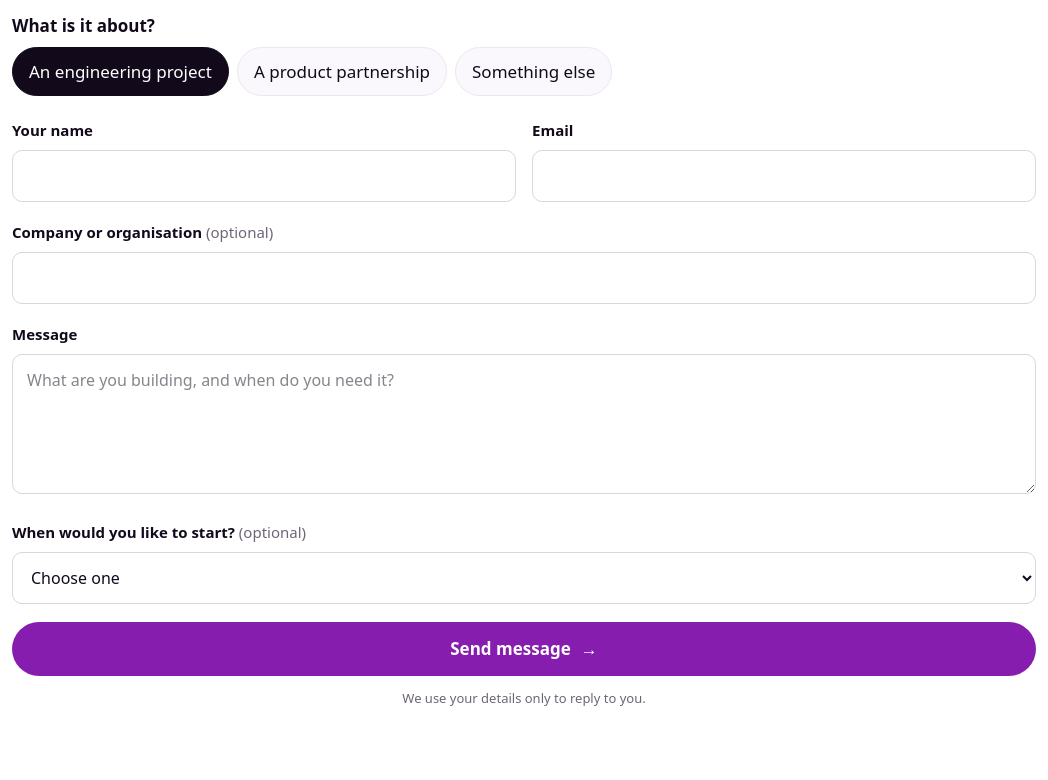
Test: EnquiryForm › a failed request shows the error with the email address
Step 1. Type "Amina" into the field labelled "Your name" → (264, 176), box x1=12 y1=150 x2=516 y2=202
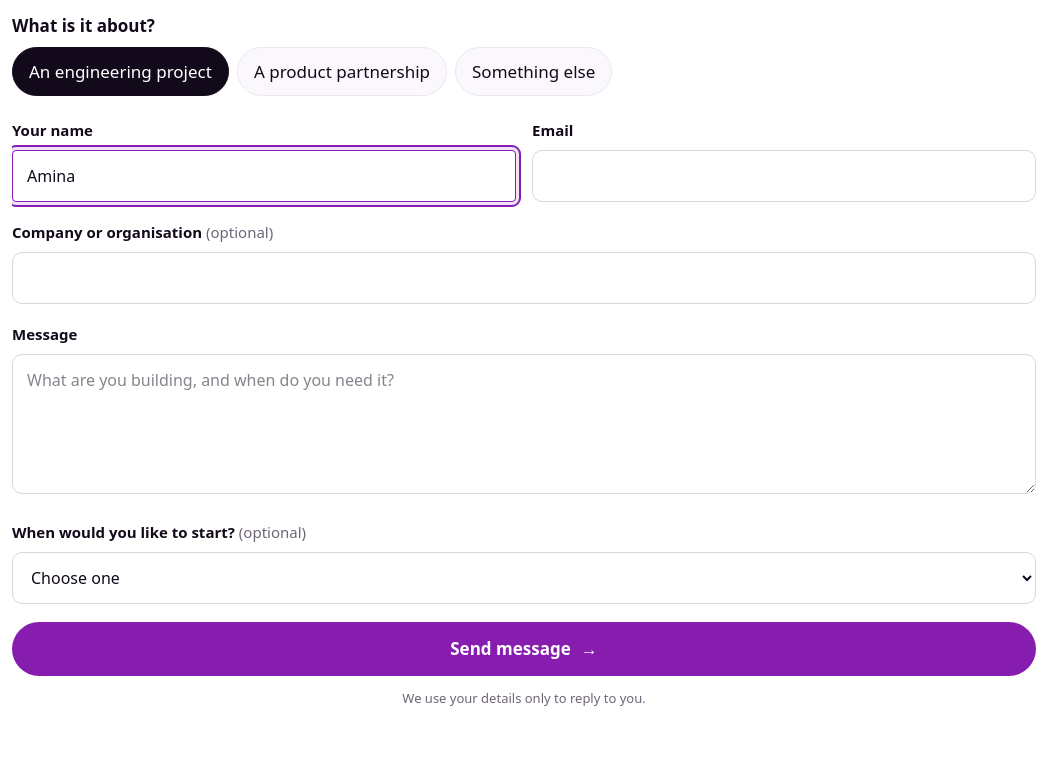
Step 2. Type "amina@example.com" into the field labelled "Email" → (784, 176), box x1=532 y1=150 x2=1036 y2=202
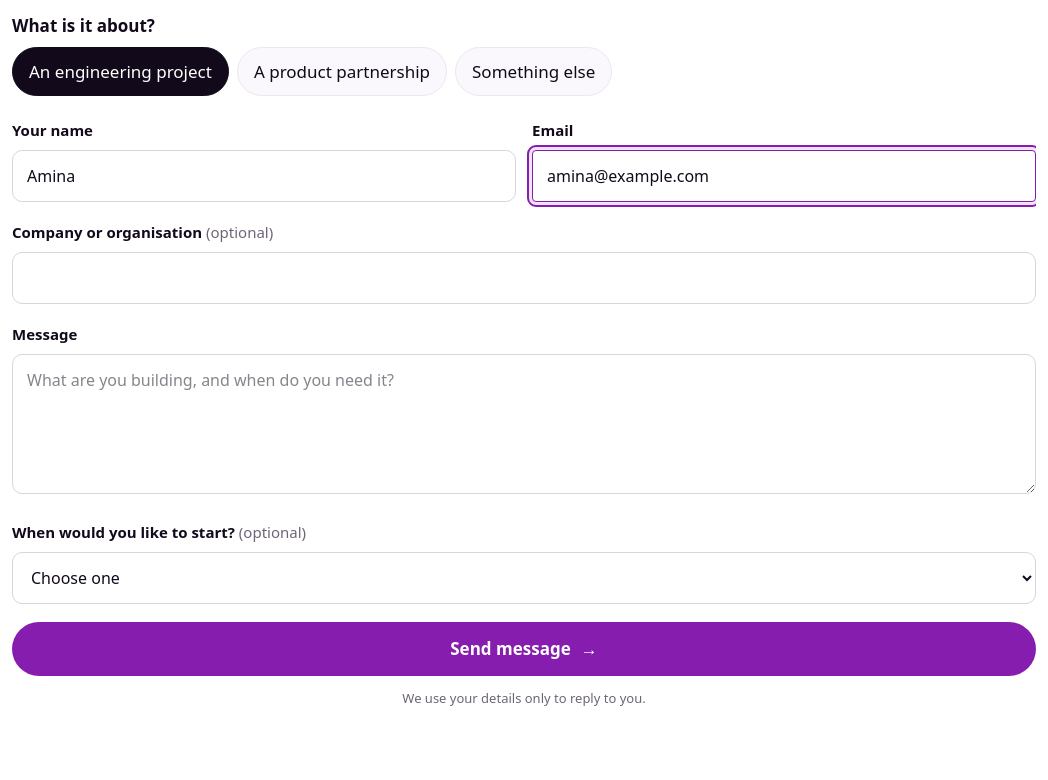
Step 3. Type "We need an API built for our app." into the text box labelled "Message" → (524, 424), box x1=12 y1=354 x2=1036 y2=494
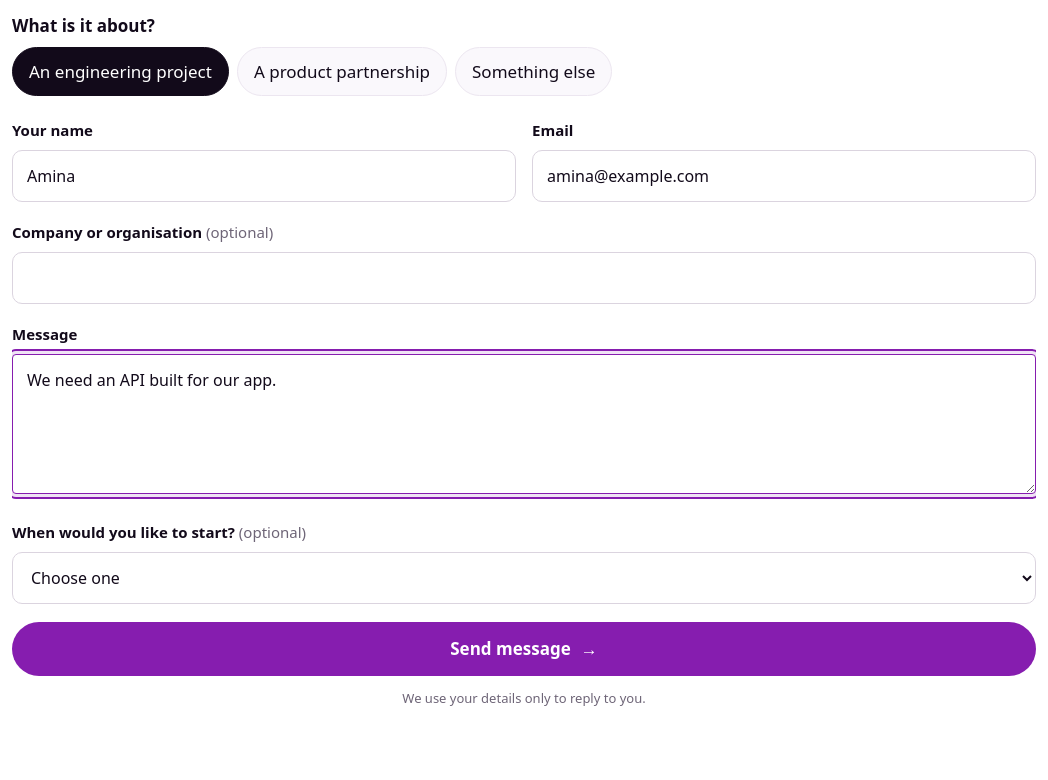
Step 4. Click the button "Send message →" → (524, 649), box x1=12 y1=622 x2=1036 y2=676
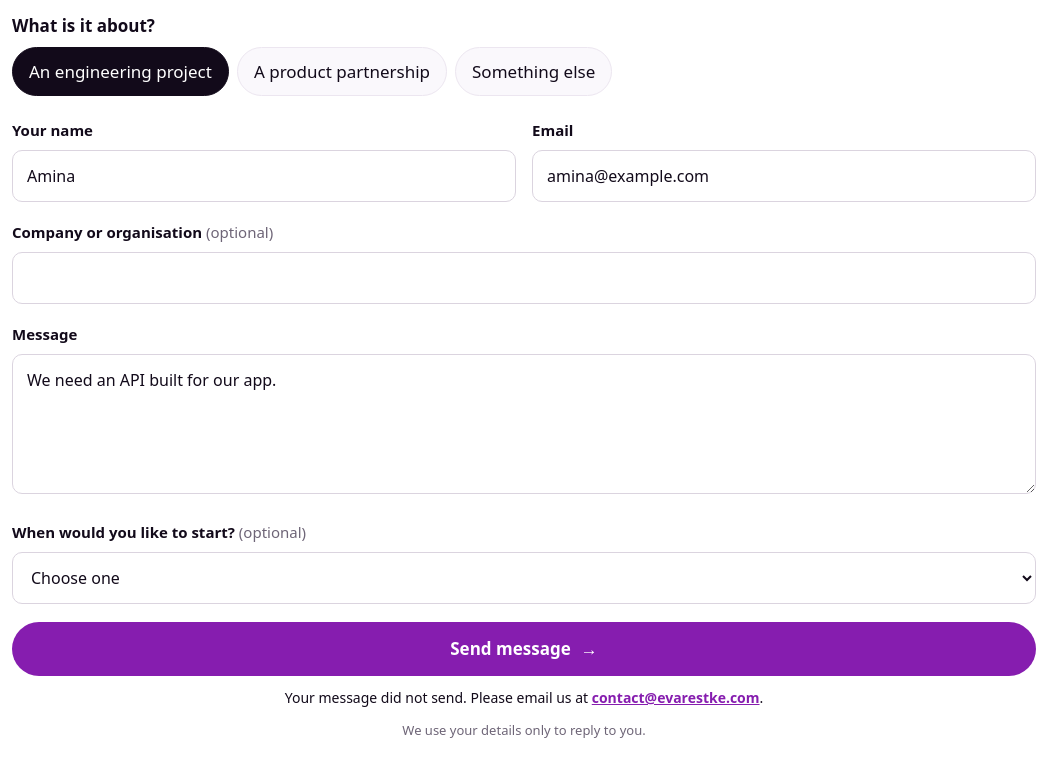
Result: the text "Your message did not send. Please email us at contact@evarestke.com ." is shown at x1=285 y1=688 x2=763 y2=707
